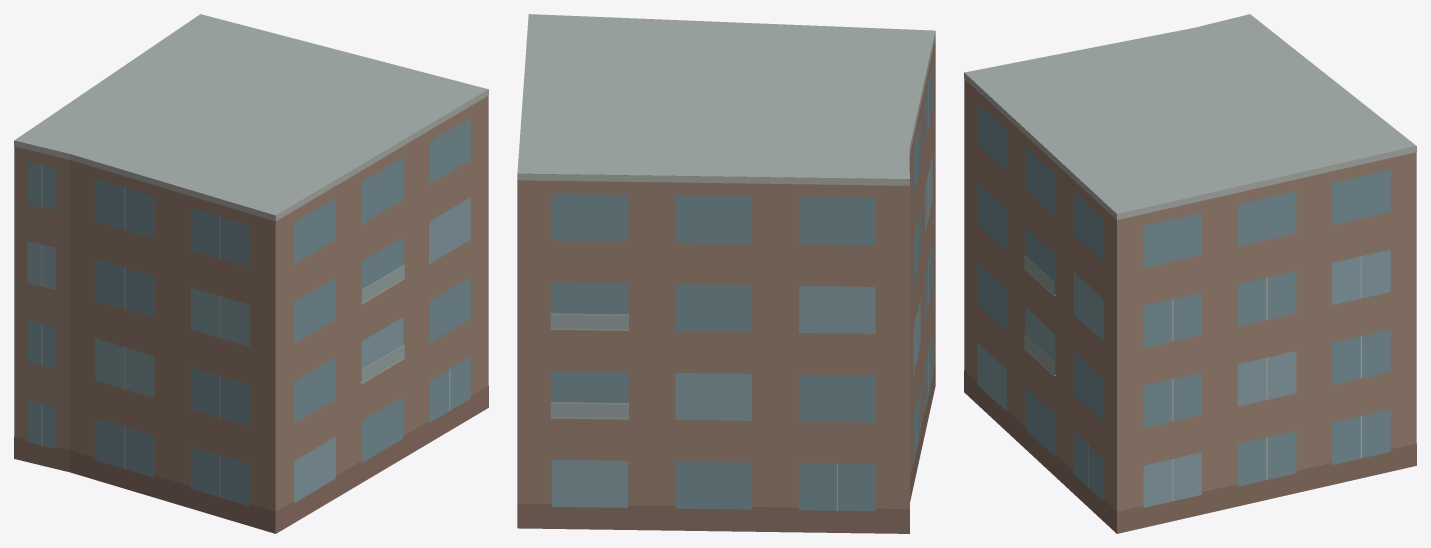
File: survey-upis-32728472.glb
The picture shows the model from 3 angles, left to right: view 1: azimuth 30°, elevation 25°; view 2: azimuth 150°, elevation 25°; view 3: azimuth 270°, elevation 25°; orthographic projection. The views are drawn at different scales.
Visible parts, largest first — view 1: survey-upis-32728472.tmp; view 2: survey-upis-32728472.tmp; view 3: survey-upis-32728472.tmp.
Boxes of the visible parts, x1,y1,x2,y2 form: survey-upis-32728472.tmp: [14, 14, 488, 533]; survey-upis-32728472.tmp: [517, 14, 935, 533]; survey-upis-32728472.tmp: [964, 14, 1416, 533].
Size of the model in its own units: 17.32 by 12.9 by 16.56.
